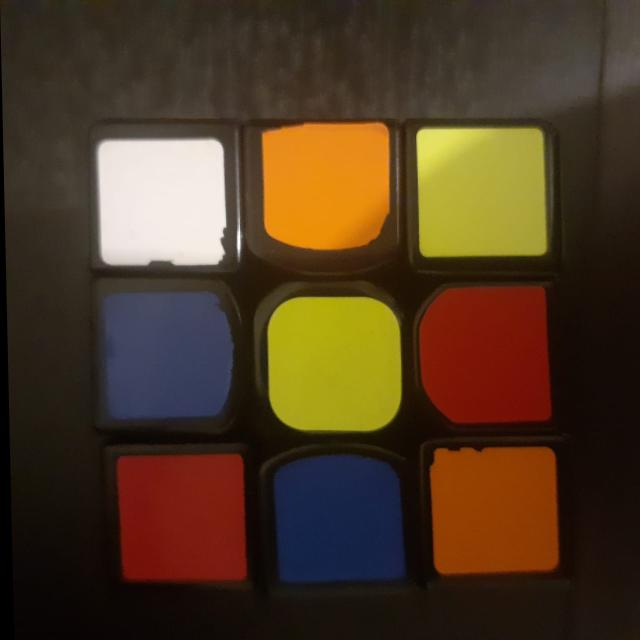Blue: (93, 284, 240, 430), (264, 449, 412, 589)
Orange: (247, 118, 396, 262), (419, 443, 557, 579)
Red: (413, 280, 556, 430), (107, 449, 257, 591)
White: (90, 126, 235, 278)
Yellow: (255, 286, 405, 436), (407, 118, 550, 268)
